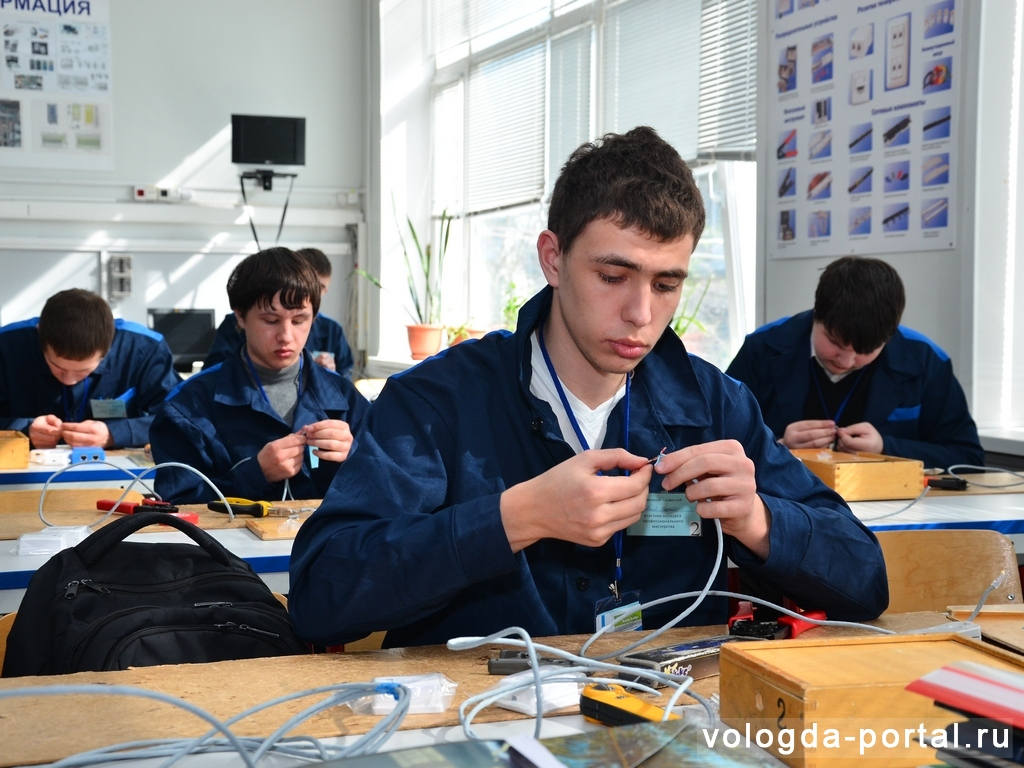students: (297, 130, 892, 657), (152, 245, 369, 501), (729, 252, 985, 461), (1, 287, 179, 449), (300, 248, 355, 373)
